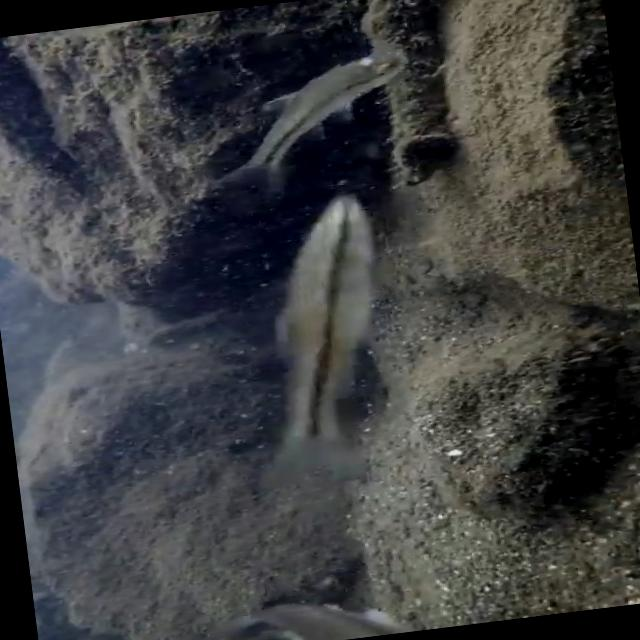Cakil Baligi: (222, 188, 412, 476), (194, 42, 420, 185)
